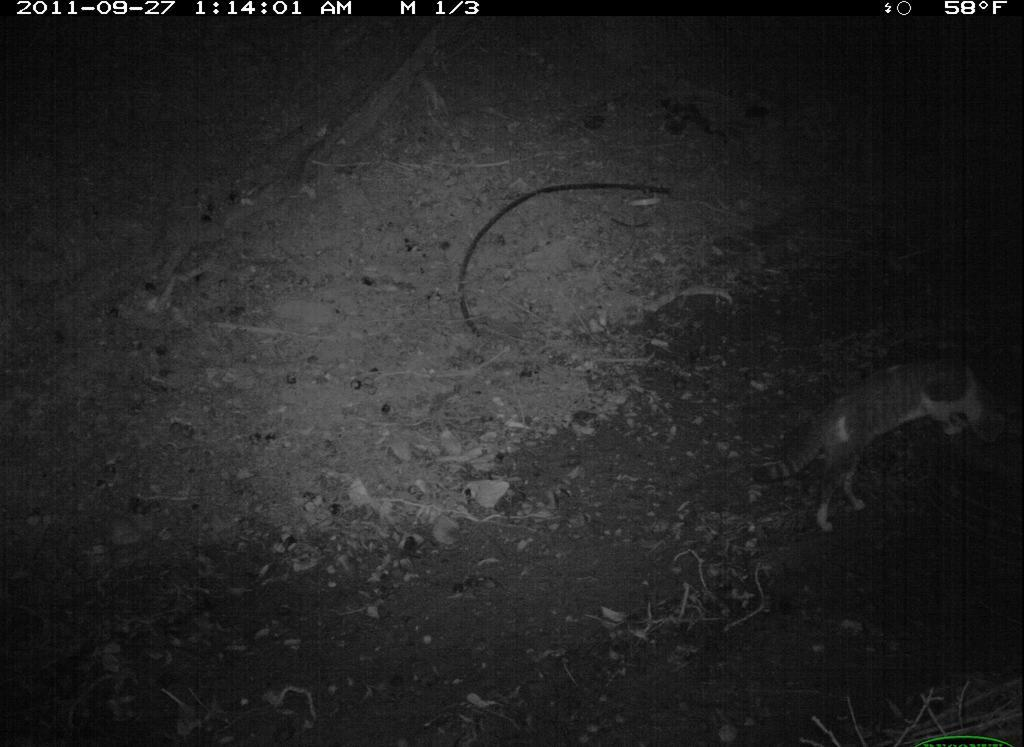cat: (752, 346, 1017, 545)
